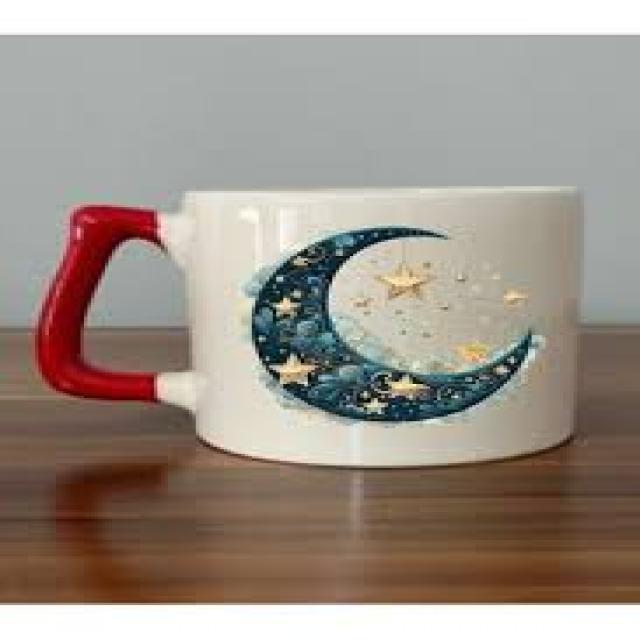taza: (35, 184, 584, 466)
